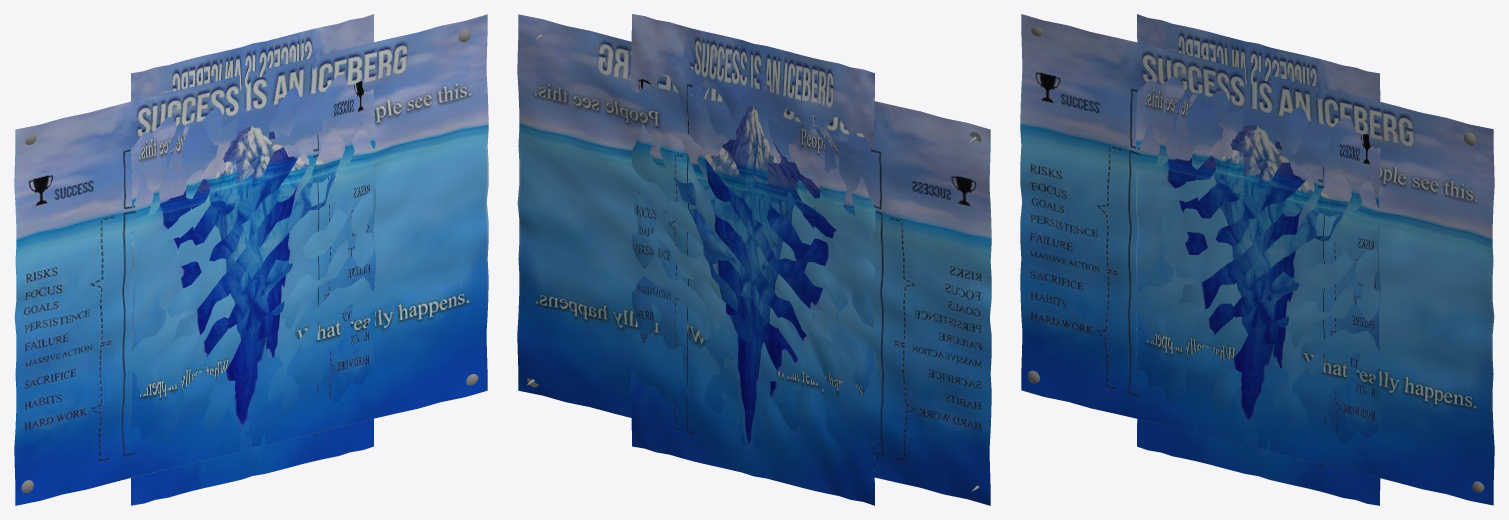
Rendered from Psycho-Poster.FBX.
The picture shows the model from 3 angles, left to right: view 1: azimuth 30°, elevation 25°; view 2: azimuth 150°, elevation 25°; view 3: azimuth 330°, elevation 25°; orthographic projection.
Visible parts, largest first — view 1: Mesh01, Box01; view 2: Mesh01, Box01; view 3: Mesh01, Box01.
Part boxes in pixels (x1,y1,x2,y2): Mesh01: (14,14,488,505); Box01: (130,14,375,505); Mesh01: (517,14,991,505); Box01: (630,14,875,505); Mesh01: (1020,14,1494,505); Box01: (1136,14,1380,505).
Size of the model in its own units: 5.44 by 4.76 by 0.1712.
